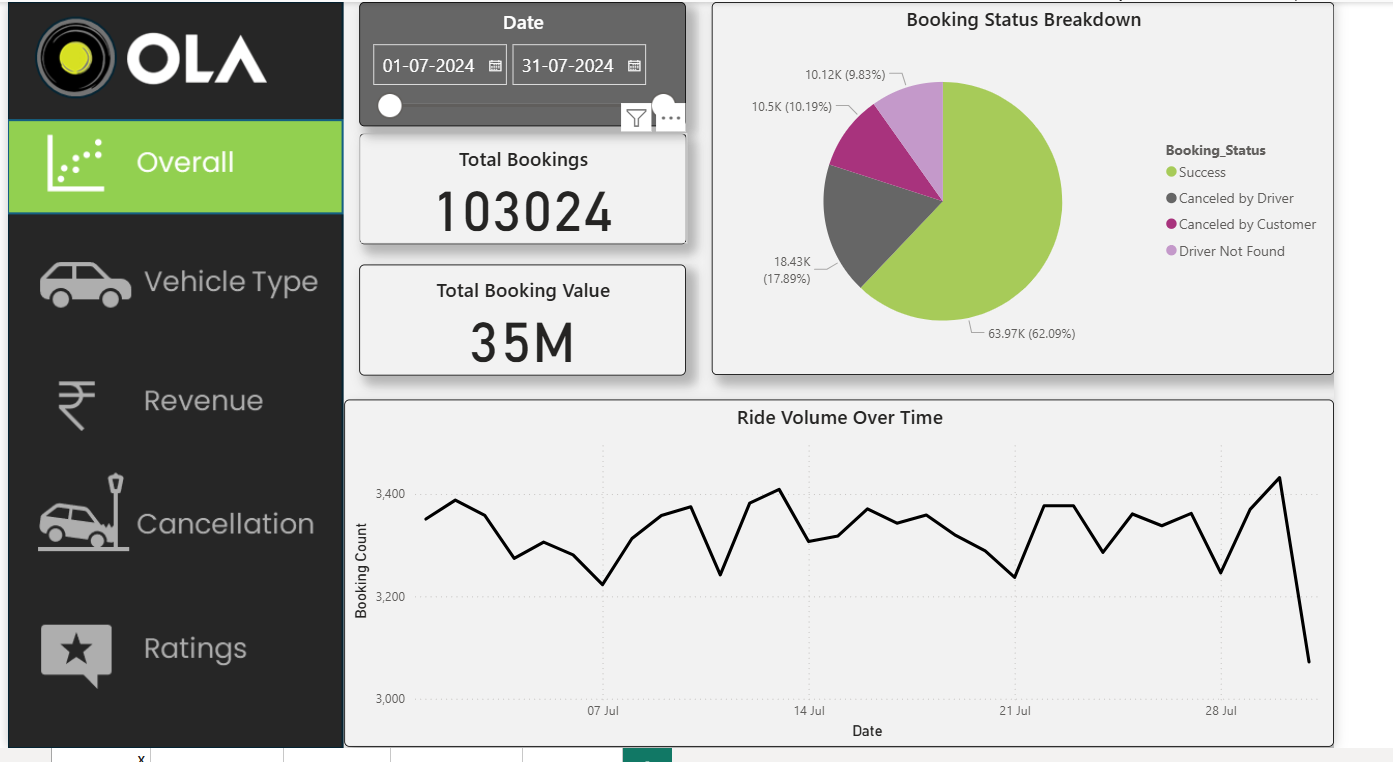

What the dashboard file says about the page in this screenshot:
{"tool":"powerbi","page":{"name":"Overall","canvas":[1280,720],"ordinal":0},"visuals":[{"type":"actionButton","box":[0,225.2,324.5,93.1],"z":0},{"type":"actionButton","box":[0,344.9,324.5,93.1],"z":1000},{"type":"actionButton","box":[0,450.4,324.5,93.1],"z":2000},{"type":"actionButton","box":[0,587,324.5,93.1],"z":3000},{"type":"lineChart","title":"Ride Volume Over Time","fields":{"Y":["CountNonNull(July.Booking_ID)"],"Category":["July.Date"]},"box":[324.9,384.2,955.1,335.6],"z":4000},{"type":"pieChart","title":"Booking Status Breakdown","fields":{"Y":["CountNonNull(July.Booking_ID)"],"Category":["July.Booking_Status"]},"box":[678.9,0,601.1,359.9],"z":5000},{"type":"slicer","title":"Date","fields":{"Values":["July.Date"]},"box":[339.5,0,315.1,119.6],"z":6000},{"type":"card","title":"Total Bookings","fields":{"Values":["Count(July.Booking_ID)"]},"box":[338.9,126.2,315.6,107],"z":7000},{"type":"card","title":"Total Booking Value","fields":{"Values":["Sum(July.Booking_Value)"]},"box":[339.5,252.9,315.1,107],"z":8000}]}

Visuals, with their boxes in screenshot pixels (x1, y1, x2, y2), scaled from the page's 1280x720 canvas onto the 1393x762 screenshot:
actionButton: 0:238:353:337
actionButton: 0:365:353:464
actionButton: 0:477:353:575
actionButton: 0:621:353:720
"Ride Volume Over Time" lineChart: 354:407:1392:761
"Booking Status Breakdown" pieChart: 739:0:1392:381
"Date" slicer: 369:0:712:127
"Total Bookings" card: 369:134:712:247
"Total Booking Value" card: 369:268:712:381
